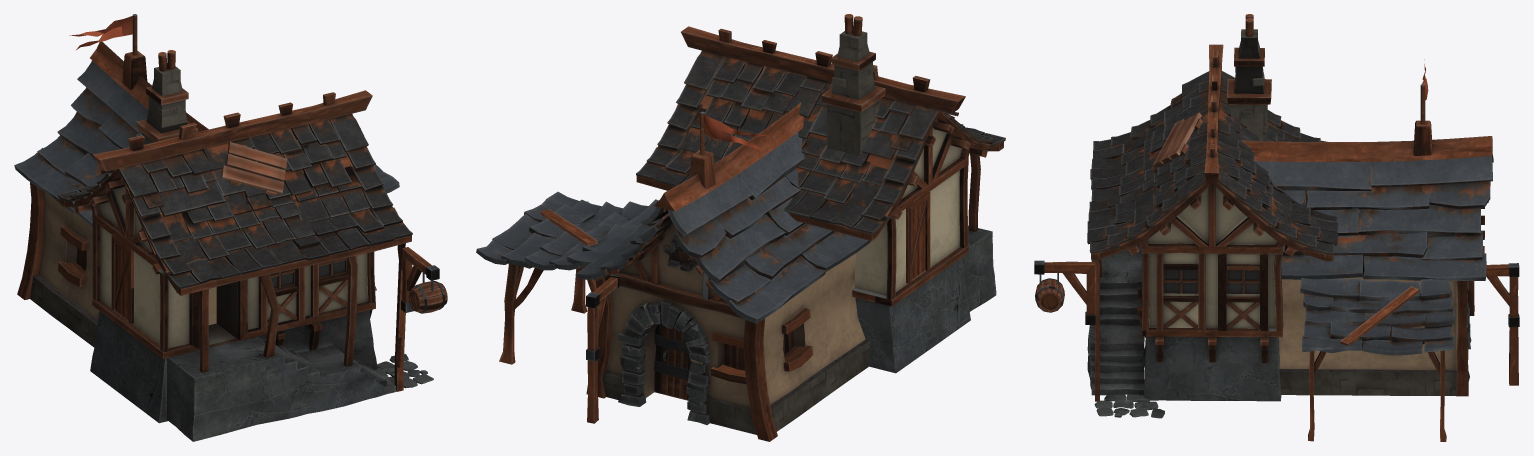
File: Building_21.fbx
3 renders of one model, left to right at view 1: azimuth 30°, elevation 25°; view 2: azimuth 150°, elevation 25°; view 3: azimuth 270°, elevation 25°, orthographic. The views are drawn at different scales.
Visible parts, largest first — view 1: Building_21_LOD0; view 2: Building_21_LOD0; view 3: Building_21_LOD0.
Part boxes in pixels (<box>): Building_21_LOD0: <box>14,14,447,441</box>; Building_21_LOD0: <box>476,14,1005,441</box>; Building_21_LOD0: <box>1034,14,1519,441</box>.
Size of what is drawn, in the model's own units: 1541 by 1347 by 1902.
